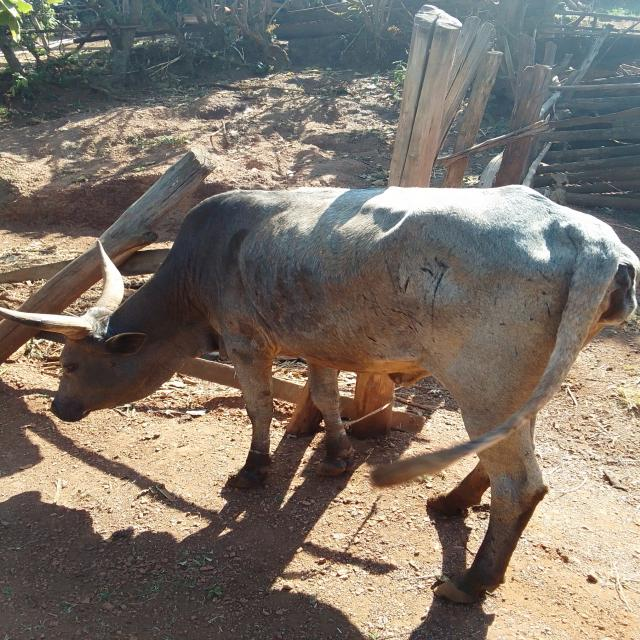Left: (2, 185, 638, 604)
